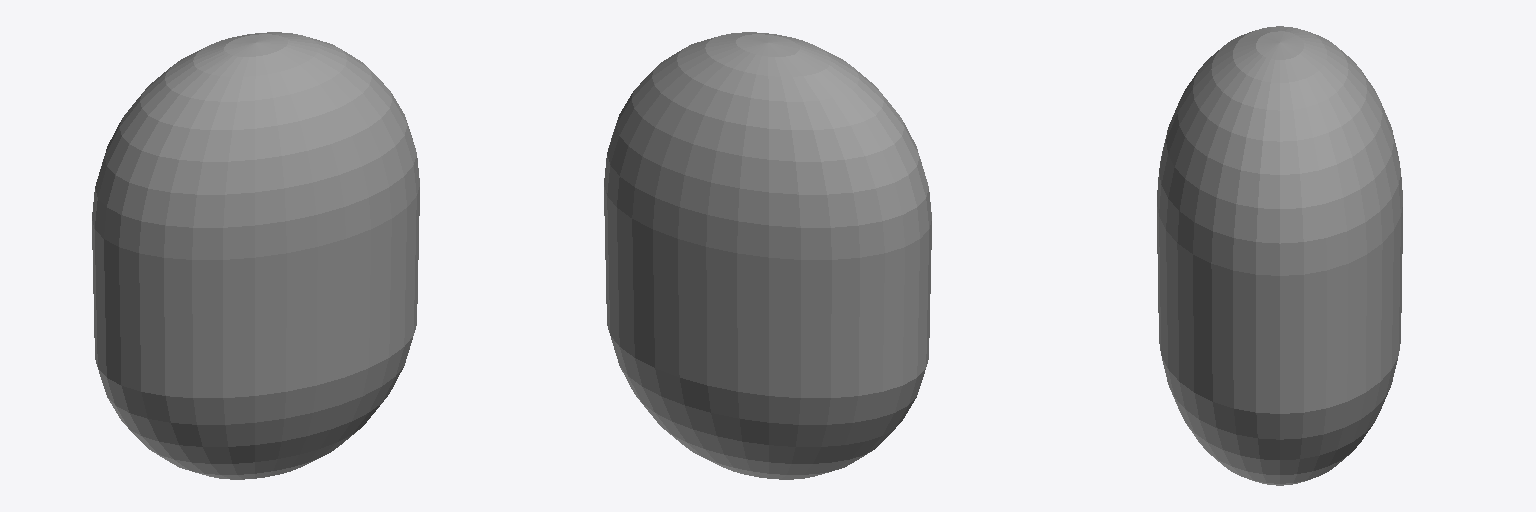
File: Hoot.obj
3 renders of one model, left to right at view 1: azimuth 30°, elevation 25°; view 2: azimuth 150°, elevation 25°; view 3: azimuth 270°, elevation 25°, orthographic.
Parts seen in each view (by area): view 1: Sphere; view 2: Sphere; view 3: Sphere.
Boxes of the visible parts, <box> form: Sphere: <box>92,32,419,479</box>; Sphere: <box>604,32,931,479</box>; Sphere: <box>1157,26,1402,485</box>.
Size of the model in its own units: 0.7267 by 0.974 by 0.5103.